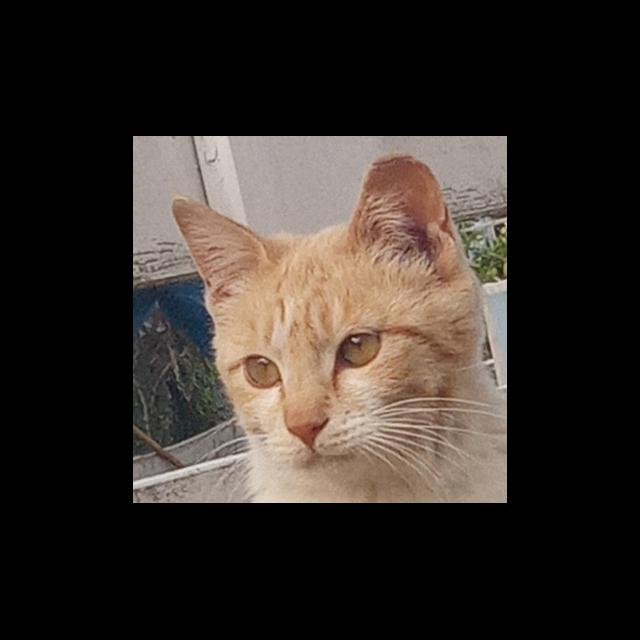animals: (167, 149, 489, 478)
